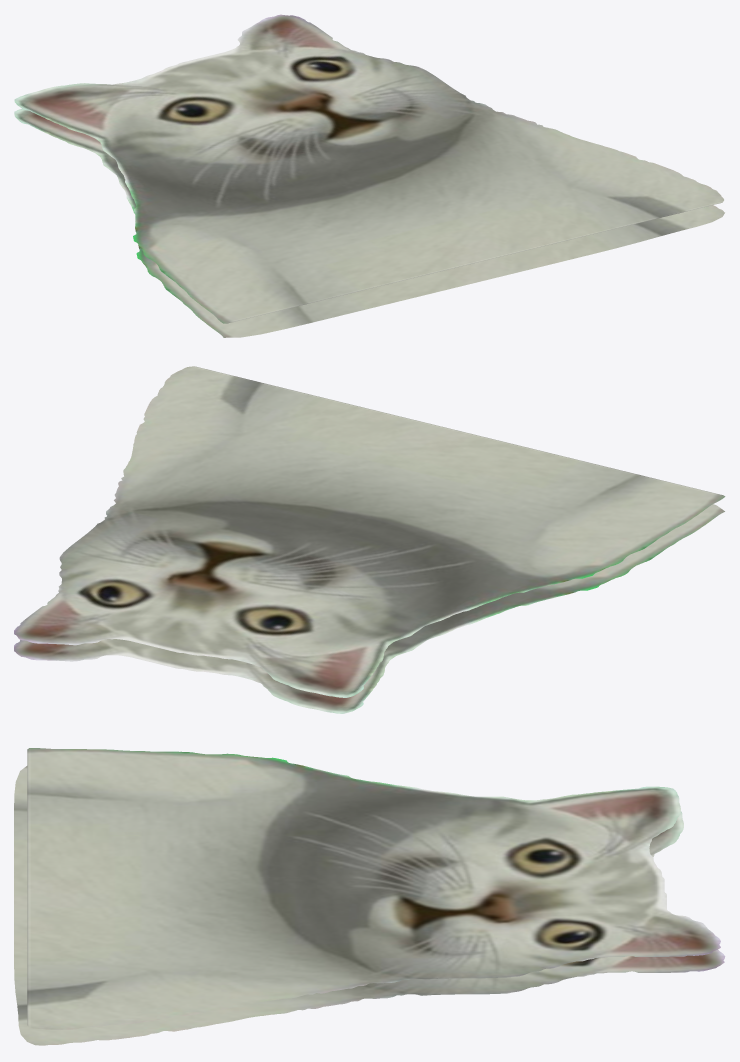
The model's file is cat.fbx.
3 views of the same model, one above another, from view 1: azimuth 30°, elevation 25°; view 2: azimuth 150°, elevation 25°; view 3: azimuth 270°, elevation 25° (orthographic). The views are drawn at different scales.
Parts seen in each view (by area): view 1: Plane.001; view 2: Plane.001; view 3: Plane.001.
Boxes of the visible parts, bbox=[...] form: Plane.001: bbox=[14, 14, 724, 337]; Plane.001: bbox=[14, 366, 725, 713]; Plane.001: bbox=[14, 748, 725, 1045].
Bounding box in the file's own units: 38.48 × 1 × 40.13.
